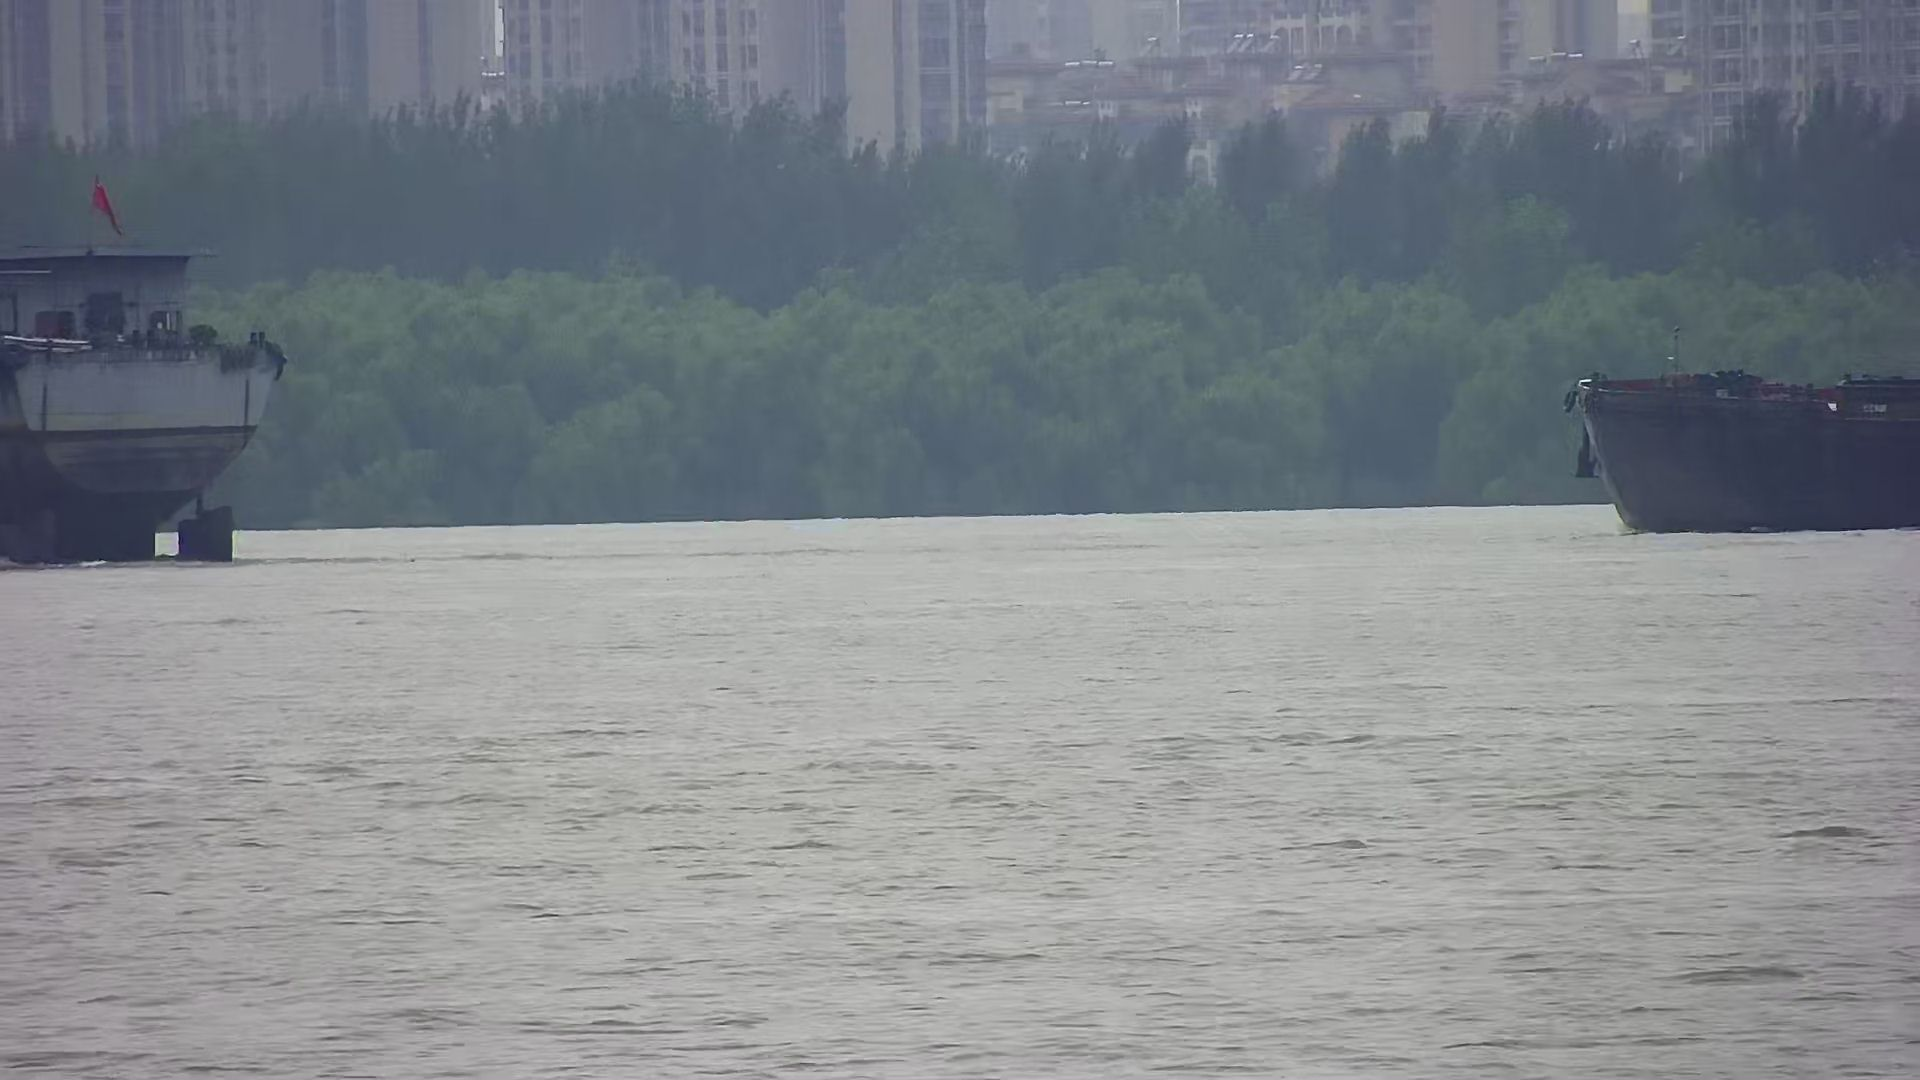ship: (3, 169, 290, 567), (1561, 322, 1920, 533)
